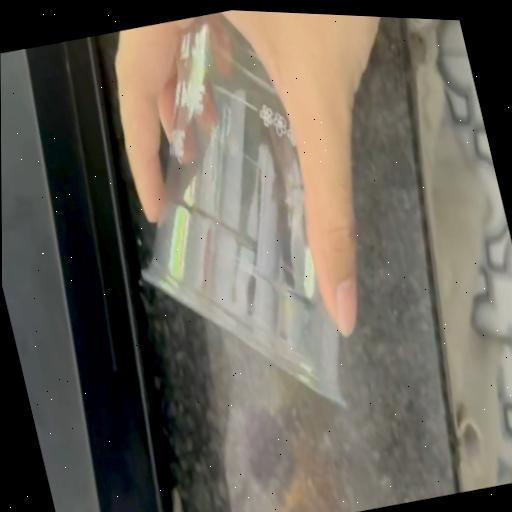ly_nhua: (143, 12, 343, 403)
